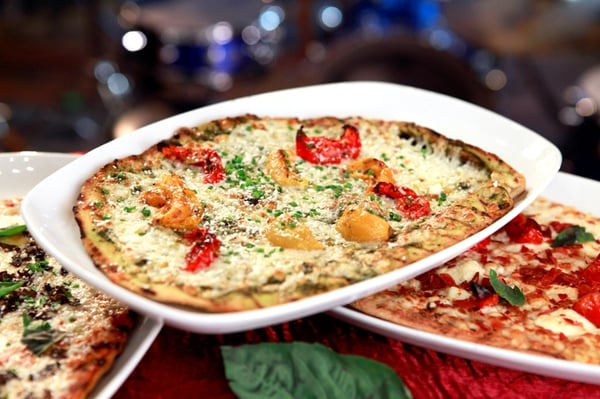sandwich: (73, 112, 531, 313), (358, 196, 600, 366), (0, 228, 133, 396)
